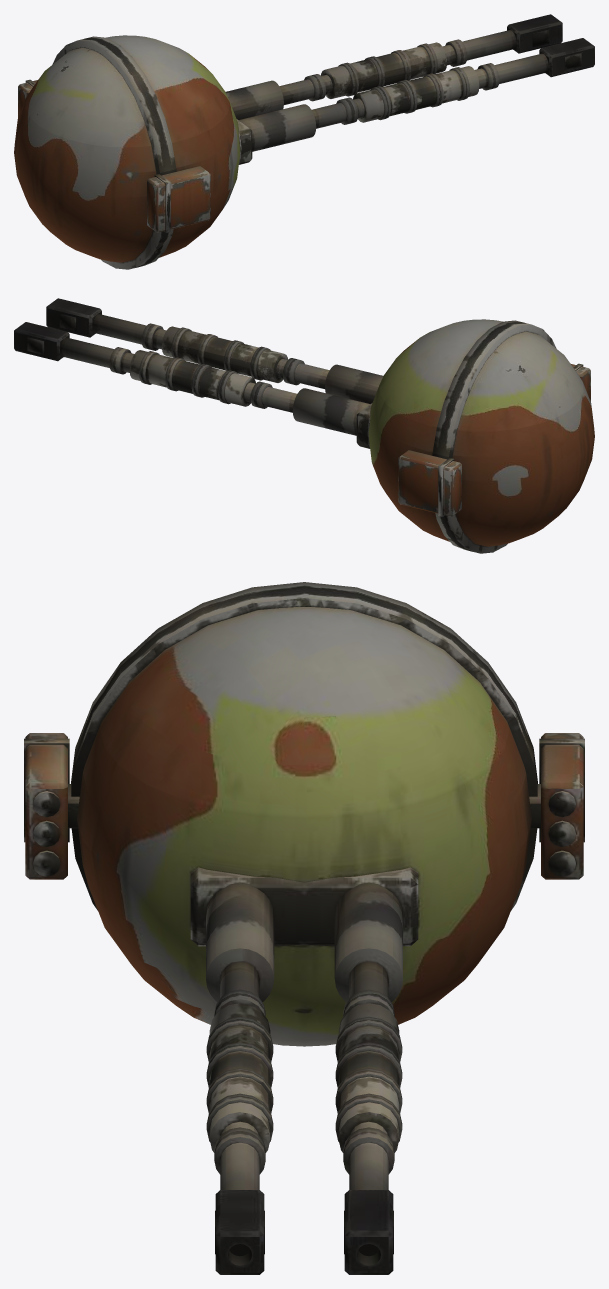
File: turret_kit_tail_ball_t3_rust.glb
3 views of the same model, one above another, from view 1: azimuth 30°, elevation 25°; view 2: azimuth 150°, elevation 25°; view 3: azimuth 270°, elevation 25° (orthographic). The views are drawn at different scales.
Parts seen in each view (by area): view 1: turret_tail_ball_t3, pods; view 2: turret_tail_ball_t3, pods; view 3: turret_tail_ball_t3, pods.
Part boxes in pixels (bbox=[...]): turret_tail_ball_t3: bbox=[14, 14, 594, 269]; pods: bbox=[18, 79, 210, 232]; turret_tail_ball_t3: bbox=[14, 298, 594, 553]; pods: bbox=[398, 363, 590, 516]; turret_tail_ball_t3: bbox=[71, 582, 537, 1274]; pods: bbox=[24, 733, 584, 879].
Size of the model in its own units: 1.66 by 0.62 by 0.7402.
Materials: 2 (2 with a texture image).
